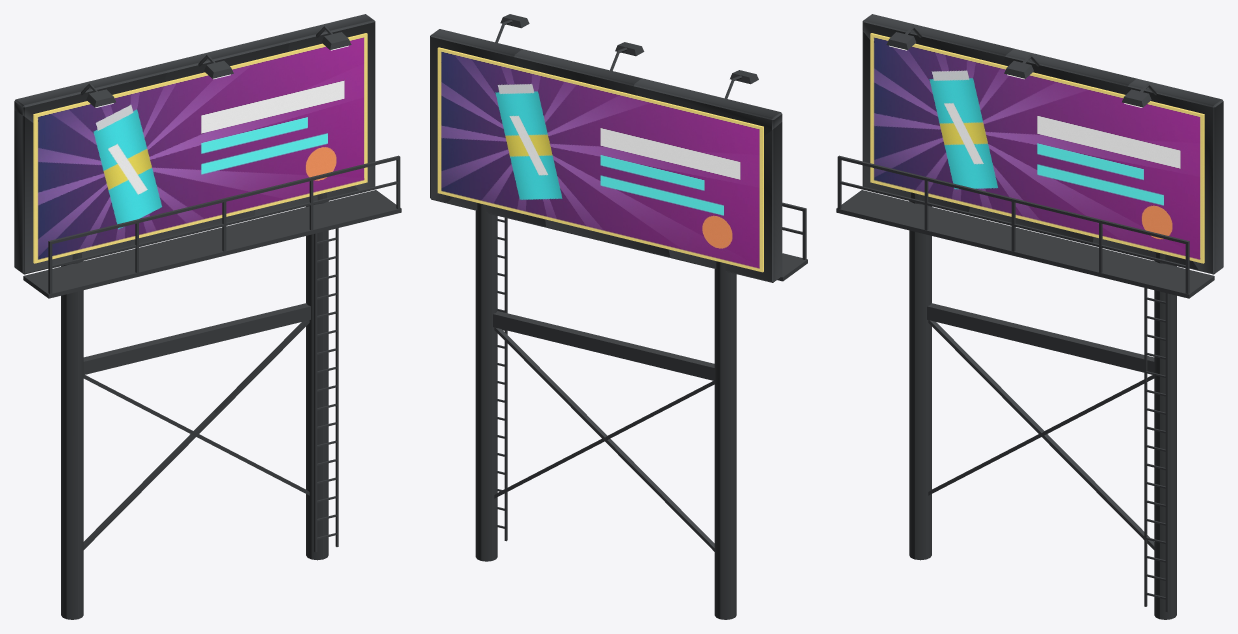
Rendered from sign_fractured.glb.
3 renders of one model, left to right at view 1: azimuth 30°, elevation 25°; view 2: azimuth 150°, elevation 25°; view 3: azimuth 330°, elevation 25°, orthographic. The views are drawn at different scales.
Visible parts, largest first — view 1: chunk_014, chunk_013, chunk_015, chunk_005, chunk_001, chunk_007, chunk_003, chunk_020, chunk_019, chunk_002, chunk_021, chunk_012 (+10 smaller); view 2: chunk_017, chunk_016, chunk_018, chunk_005, chunk_003, chunk_001, chunk_002, chunk_004, chunk_007, chunk_012, chunk_008, chunk_009 (+5 smaller); view 3: chunk_014, chunk_013, chunk_015, chunk_005, chunk_012, chunk_001, chunk_003, chunk_020, chunk_019, chunk_002, chunk_021, chunk_004 (+10 smaller).
Boxes of the visible parts, left/top/right/bottom form: chunk_014: left=120, top=58, right=280, bottom=242; chunk_013: left=33, top=83, right=161, bottom=263; chunk_015: left=262, top=33, right=367, bottom=203; chunk_005: left=83, top=315, right=259, bottom=549; chunk_001: left=61, top=432, right=83, bottom=619; chunk_007: left=14, top=110, right=131, bottom=274; chunk_003: left=306, top=366, right=328, bottom=560; chunk_020: left=150, top=217, right=295, bottom=269; chunk_019: left=23, top=245, right=165, bottom=298; chunk_002: left=61, top=252, right=83, bottom=436; chunk_021: left=266, top=190, right=401, bottom=238; chunk_012: left=281, top=14, right=375, bottom=190; chunk_017: left=437, top=47, right=661, bottom=247; chunk_016: left=622, top=92, right=763, bottom=272; chunk_018: left=437, top=58, right=585, bottom=228; chunk_005: left=543, top=323, right=714, bottom=551; chunk_003: left=475, top=372, right=497, bottom=561; chunk_001: left=714, top=437, right=736, bottom=619; chunk_002: left=714, top=261, right=736, bottom=441; chunk_004: left=475, top=203, right=497, bottom=376; chunk_007: left=668, top=122, right=782, bottom=282; chunk_012: left=430, top=29, right=521, bottom=203; chunk_008: left=634, top=78, right=782, bottom=135; chunk_009: left=514, top=49, right=641, bottom=95; chunk_014: left=956, top=64, right=1116, bottom=242; chunk_013: left=870, top=33, right=998, bottom=203; chunk_015: left=1099, top=88, right=1204, bottom=263; chunk_005: left=927, top=303, right=1107, bottom=495; chunk_012: left=1126, top=78, right=1223, bottom=274; chunk_001: left=909, top=372, right=931, bottom=560; chunk_003: left=1154, top=426, right=1176, bottom=619; chunk_020: left=953, top=221, right=1104, bottom=272; chunk_019: left=836, top=190, right=988, bottom=240; chunk_002: left=909, top=192, right=931, bottom=376; chunk_021: left=1083, top=249, right=1214, bottom=298; chunk_004: left=1154, top=252, right=1176, bottom=429.
Size of the model in its own units: 7.2 by 10.52 by 1.28.
Materials: 4 (1 with a texture image).
